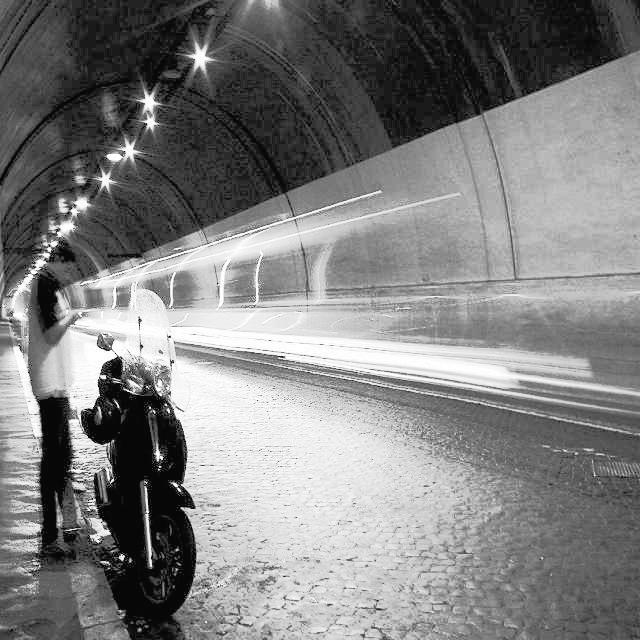Motorcycle: (95, 257, 206, 622)
